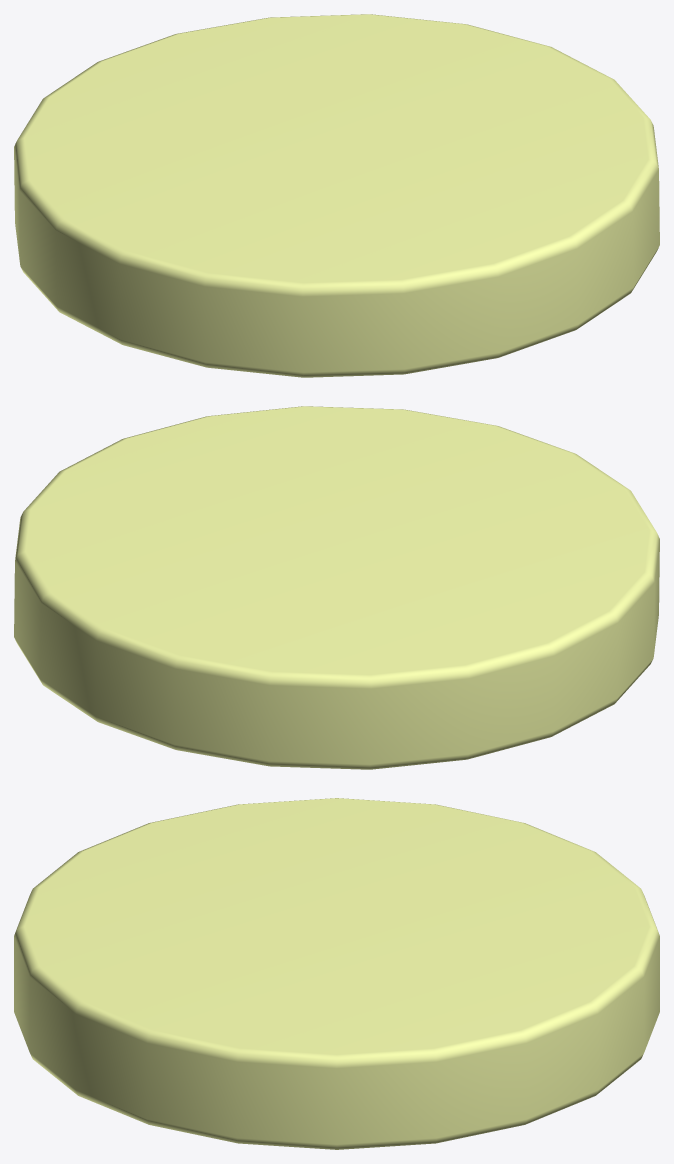
File: Anim_chip_spinUp.glb
3 renders of one model, top to bottom at view 1: azimuth 30°, elevation 25°; view 2: azimuth 150°, elevation 25°; view 3: azimuth 270°, elevation 25°, orthographic.
Parts seen in each view (by area): view 1: Chip; view 2: Chip; view 3: Chip.
Part boxes in pixels (x1,y1,x2,y2): Chip: [14, 14, 659, 377]; Chip: [14, 406, 659, 769]; Chip: [14, 798, 659, 1149].
Size of the model in its own units: 0.4631 by 0.0807 by 0.4624.
